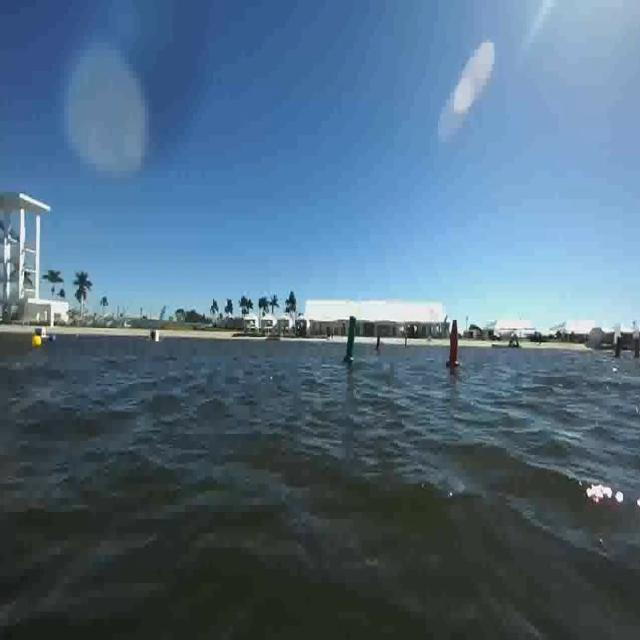green-column-buoy: (343, 315, 361, 365)
red-column-buoy: (448, 320, 462, 369)
yellow-duck: (31, 335, 40, 350)
